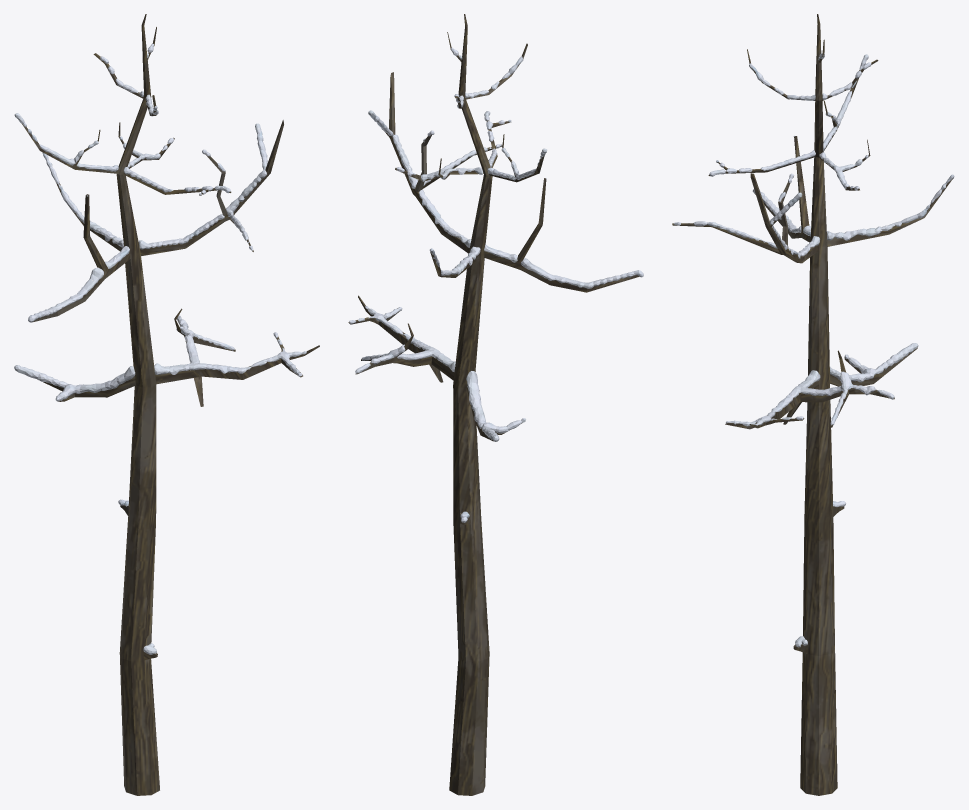
The model's file is Arbolito(1).glb.
The picture shows the model from 3 angles, left to right: view 1: azimuth 30°, elevation 25°; view 2: azimuth 150°, elevation 25°; view 3: azimuth 270°, elevation 25°; orthographic projection.
Parts seen in each view (by area): view 1: Arbolito; view 2: Arbolito; view 3: Arbolito.
Part boxes in pixels (box(x1,y1,x2,y2)): Arbolito: box(14, 14, 319, 795); Arbolito: box(348, 14, 643, 795); Arbolito: box(672, 14, 954, 795).
Bounding box in the file's own units: 17.88 × 45.78 × 15.1.
1 material, 1 textured.
